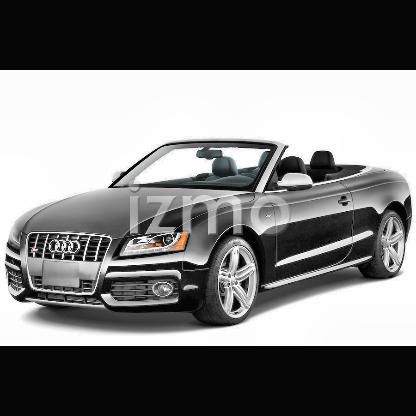Audi S5 Convertible 2012: (4, 138, 415, 326)
